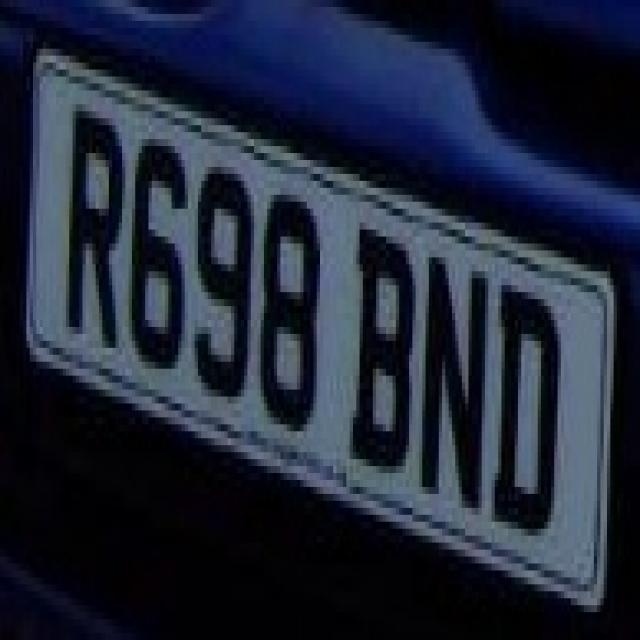LicensePlate: (19, 17, 613, 633)
